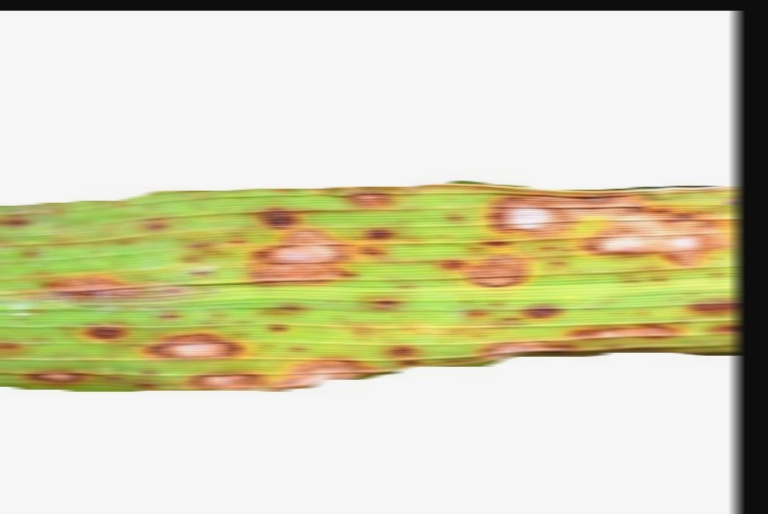Bacterial_Leaf_Blight: (472, 317, 698, 362), (244, 213, 372, 285), (572, 205, 723, 264), (18, 267, 199, 308), (442, 238, 554, 296), (474, 180, 579, 236), (278, 346, 387, 391), (23, 364, 162, 396), (142, 326, 249, 359), (191, 364, 269, 395), (687, 290, 737, 337), (70, 314, 138, 347), (253, 200, 310, 231), (517, 295, 571, 324), (387, 338, 427, 373), (337, 190, 401, 207), (365, 288, 408, 309), (0, 210, 40, 232), (0, 336, 32, 357)
